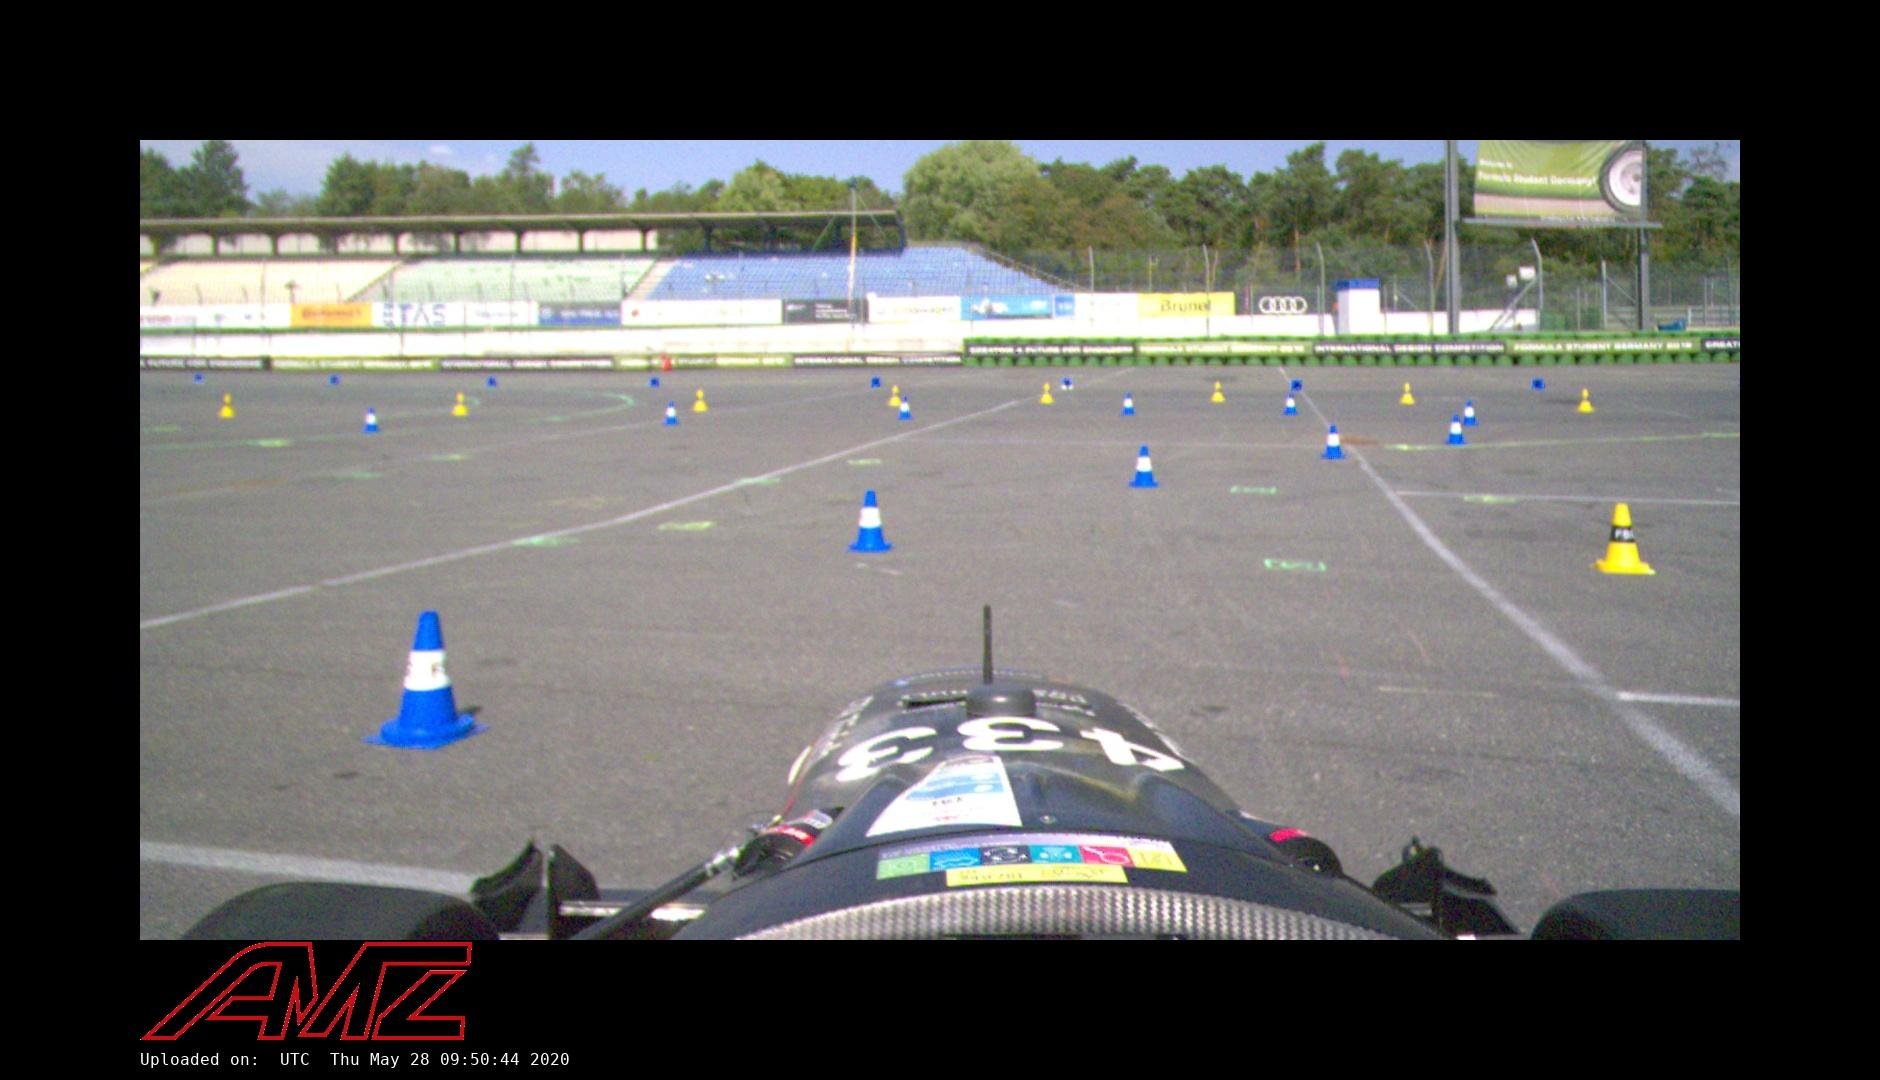blue_cone: (361, 611, 490, 750), (846, 489, 896, 553), (1127, 445, 1160, 488), (1320, 423, 1347, 460), (1445, 414, 1467, 445), (361, 406, 382, 434), (1459, 399, 1480, 427), (662, 400, 680, 426), (896, 395, 913, 420), (1282, 393, 1300, 416), (1120, 392, 1137, 416)
yellow_cone: (1594, 501, 1655, 574), (1574, 387, 1596, 413), (216, 393, 238, 418), (450, 392, 471, 416), (691, 389, 709, 412), (1398, 382, 1416, 405), (1210, 381, 1226, 403), (1039, 383, 1055, 404), (888, 385, 902, 407)
